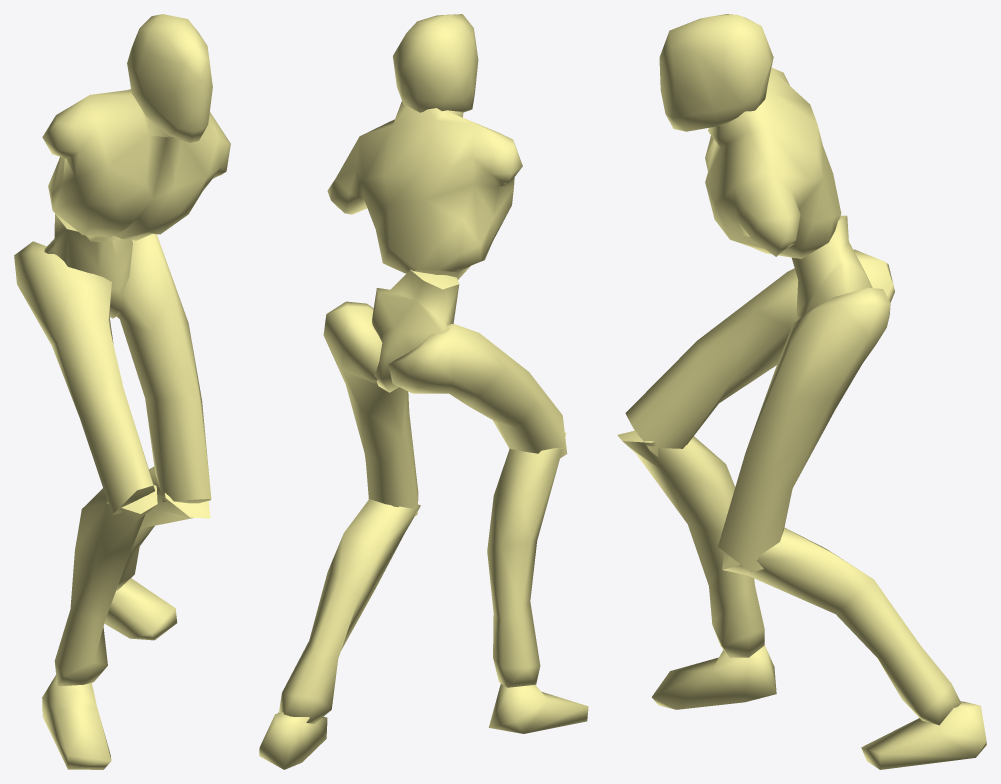
Rendered from filth10.obj.
3 views of the same model, side by side, from view 1: azimuth 30°, elevation 25°; view 2: azimuth 150°, elevation 25°; view 3: azimuth 270°, elevation 25° (orthographic). The views are drawn at different scales.
Visible parts, largest first — view 1: Melee_Husk; view 2: Melee_Husk; view 3: Melee_Husk.
Part boxes in pixels (bbox=[...]): Melee_Husk: bbox=[14, 14, 230, 769]; Melee_Husk: bbox=[259, 14, 588, 769]; Melee_Husk: bbox=[617, 14, 986, 769].
Size of the model in its own units: 22.31 by 71.32 by 32.29.
